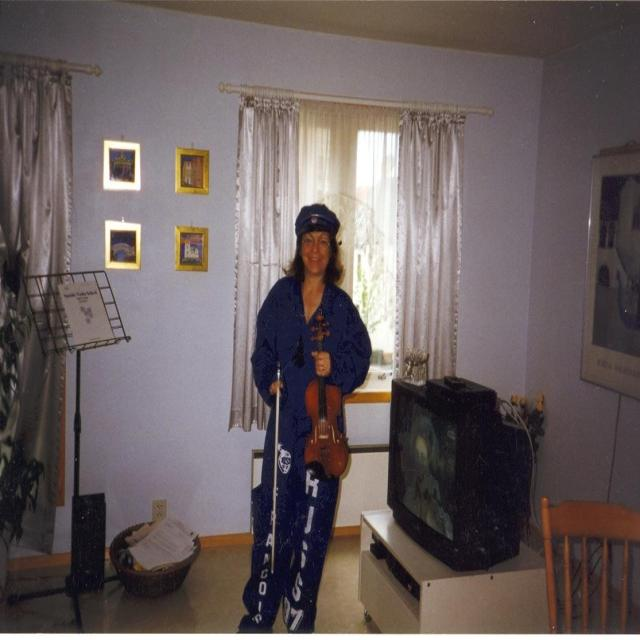violin: (302, 307, 353, 480)
